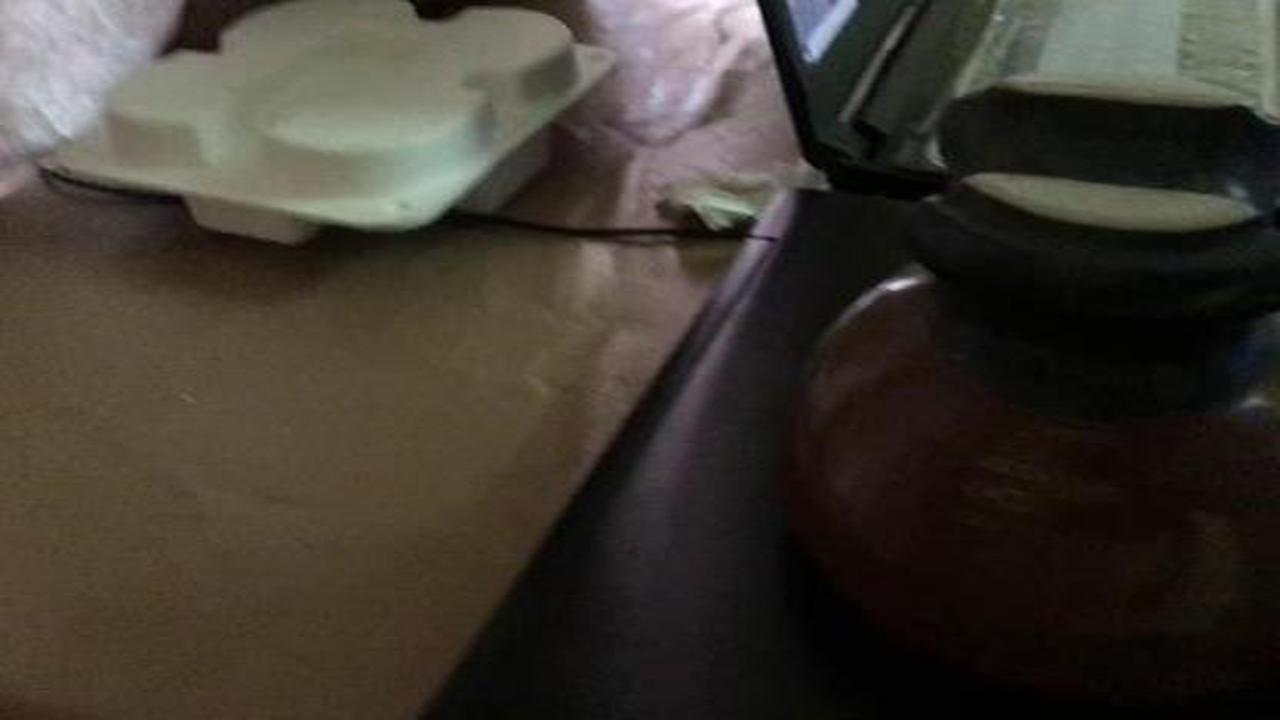insulator_pin: (767, 70, 1274, 679)
